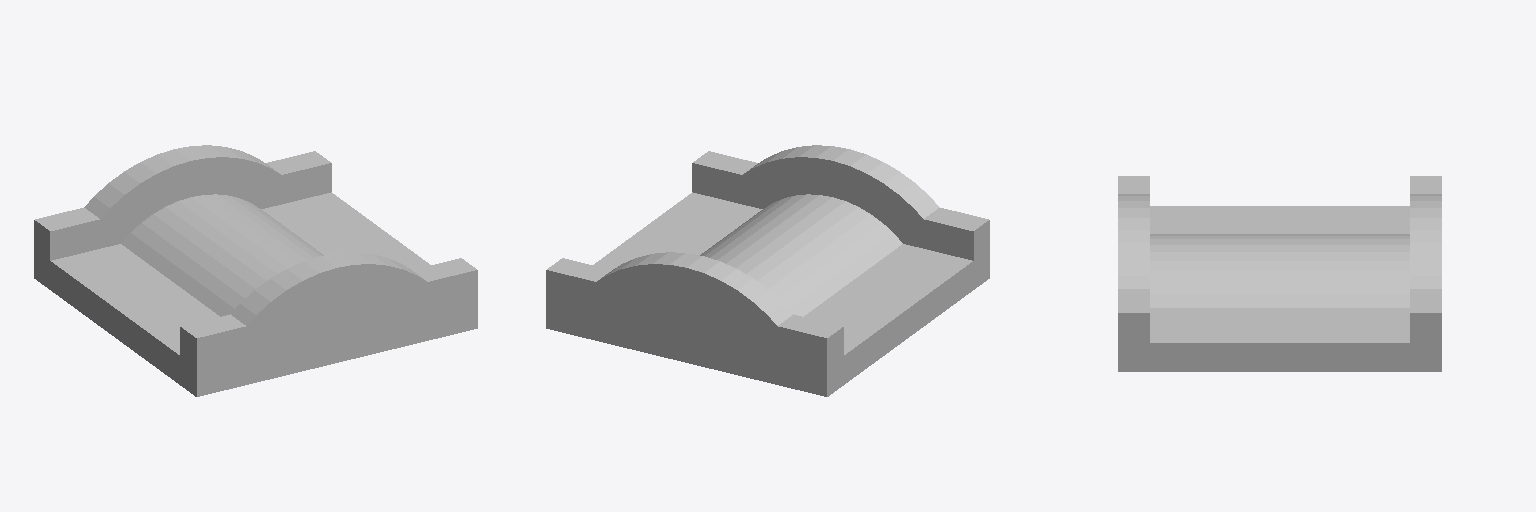
Rendered from mbump.obj.
The picture shows the model from 3 angles: view 1: azimuth 30°, elevation 25°; view 2: azimuth 150°, elevation 25°; view 3: azimuth 270°, elevation 25°; orthographic projection.
Visible parts, largest first — view 1: mbump; view 2: mbump; view 3: mbump.
Boxes of the visible parts, <box> form: mbump: <box>34,145,477,396</box>; mbump: <box>546,145,989,396</box>; mbump: <box>1118,176,1441,371</box>.
Size of the model in its own units: 10 by 3.23 by 10.